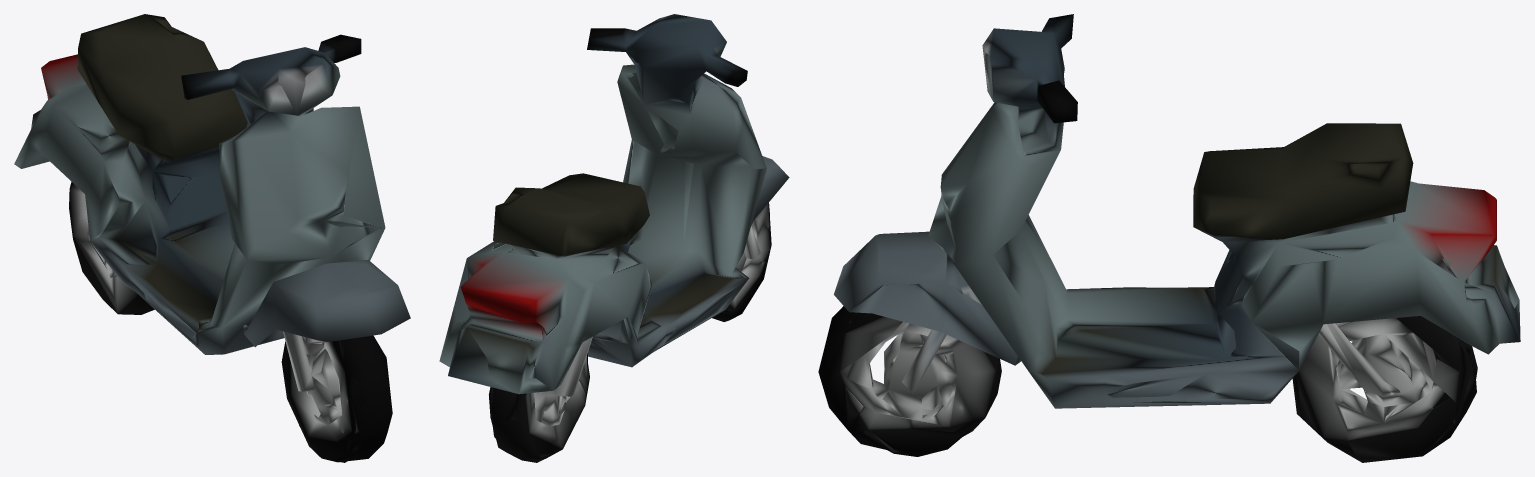
File: gen3d-scooter-lod1.glb
The picture shows the model from 3 angles, left to right: view 1: azimuth 30°, elevation 25°; view 2: azimuth 150°, elevation 25°; view 3: azimuth 270°, elevation 25°; orthographic projection. The views are drawn at different scales.
Visible parts, largest first — view 1: part_0; view 2: part_0; view 3: part_0.
Part boxes in pixels (box(x1,y1,x2,y2)): part_0: box(14, 14, 410, 462); part_0: box(439, 14, 789, 462); part_0: box(818, 14, 1520, 462).
Bounding box in the file's own units: 0.4894 × 0.9919 × 1.51.
